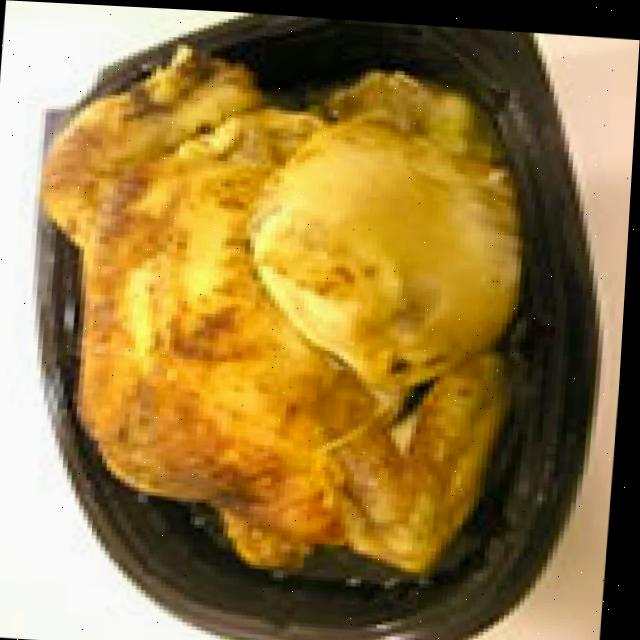鸡肉料理 含炸鸡: (3, 43, 546, 597)
